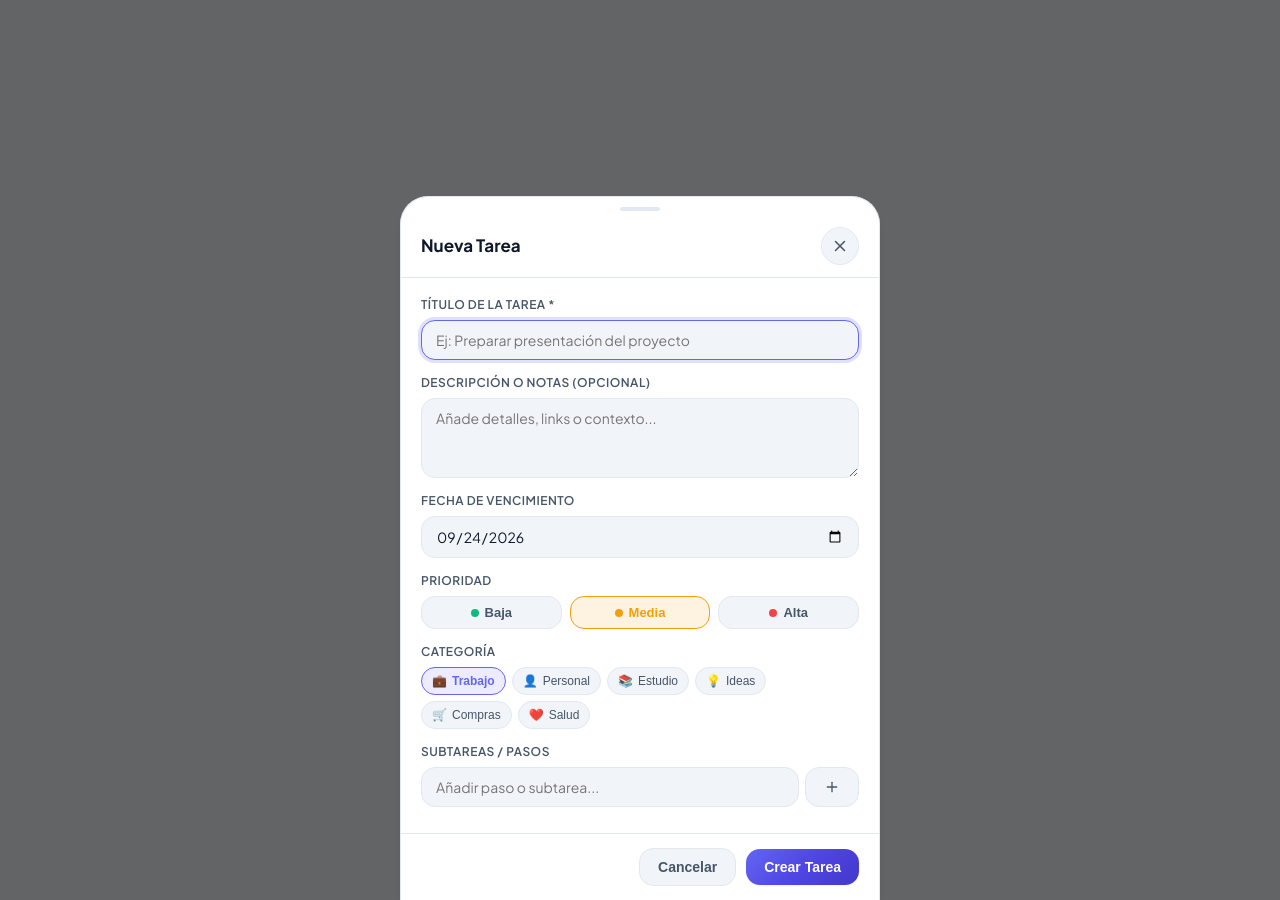
Test case: TaskModal › elimina una subtarea al presionar su botón de borrar
This screenshot has width=1280, height=900.
Type "Paso a borrar" into the field with placeholder "Añadir paso o subtarea...". click: (610, 787)
box: [421,767,799,807]
Then press Enter
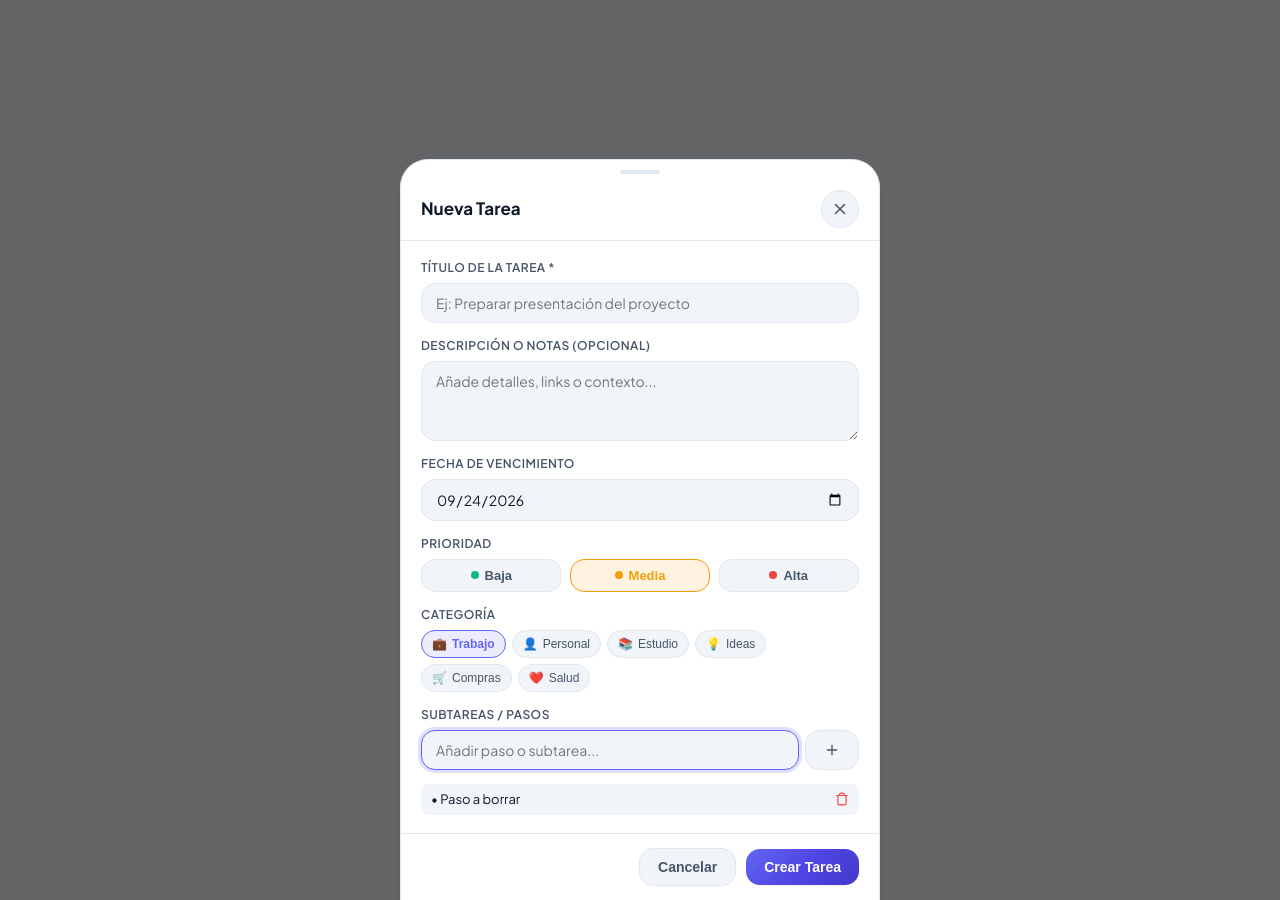
Now the text "• Paso a borrar" is shown, box [431,790,520,809]
// El botón de borrar está dentro de la misma fila que el texto de la subtarea
Click the button without text in the row of "Paso a borrar". click: (842, 799)
box: [835,792,849,806]
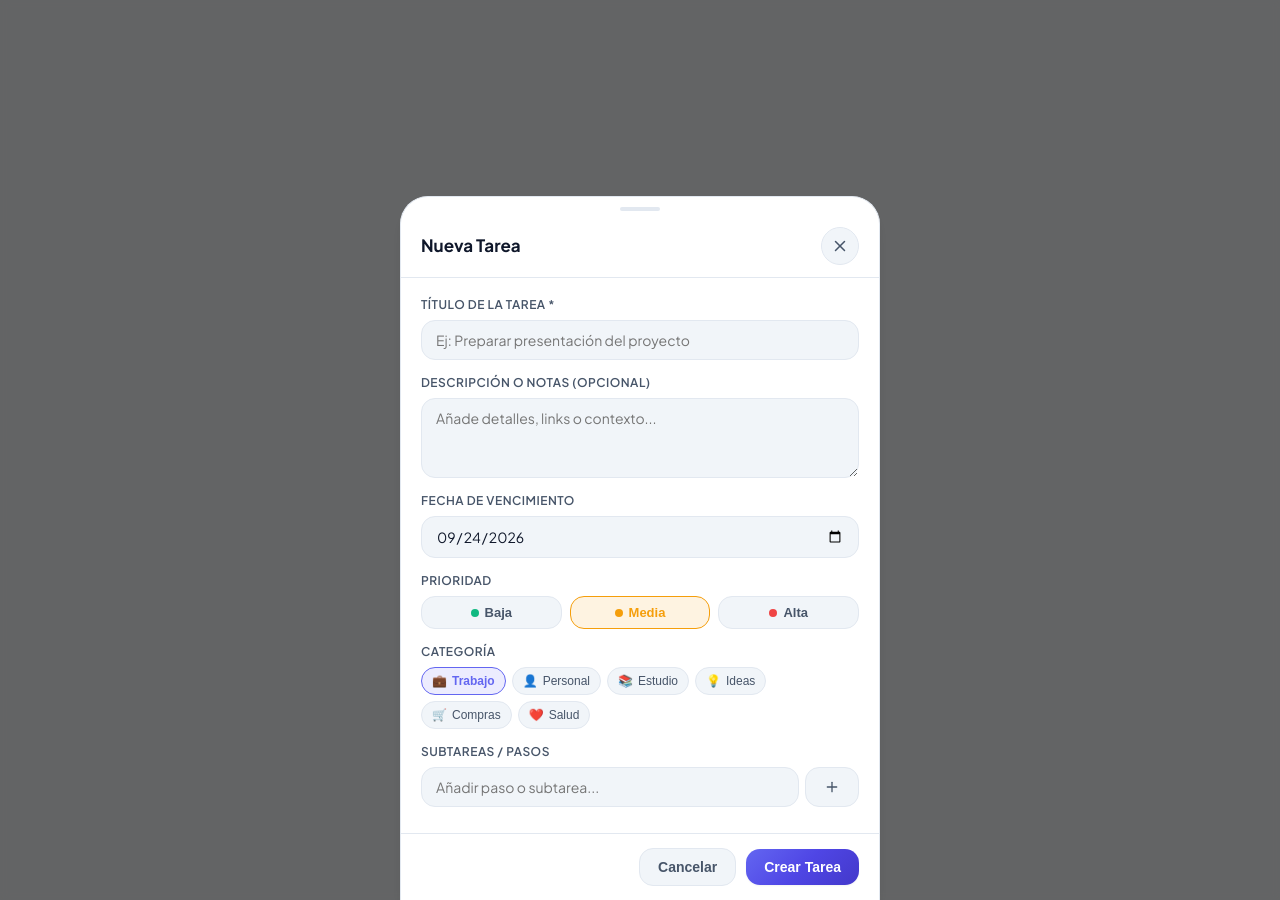
Now the text "• Paso a borrar" is gone
